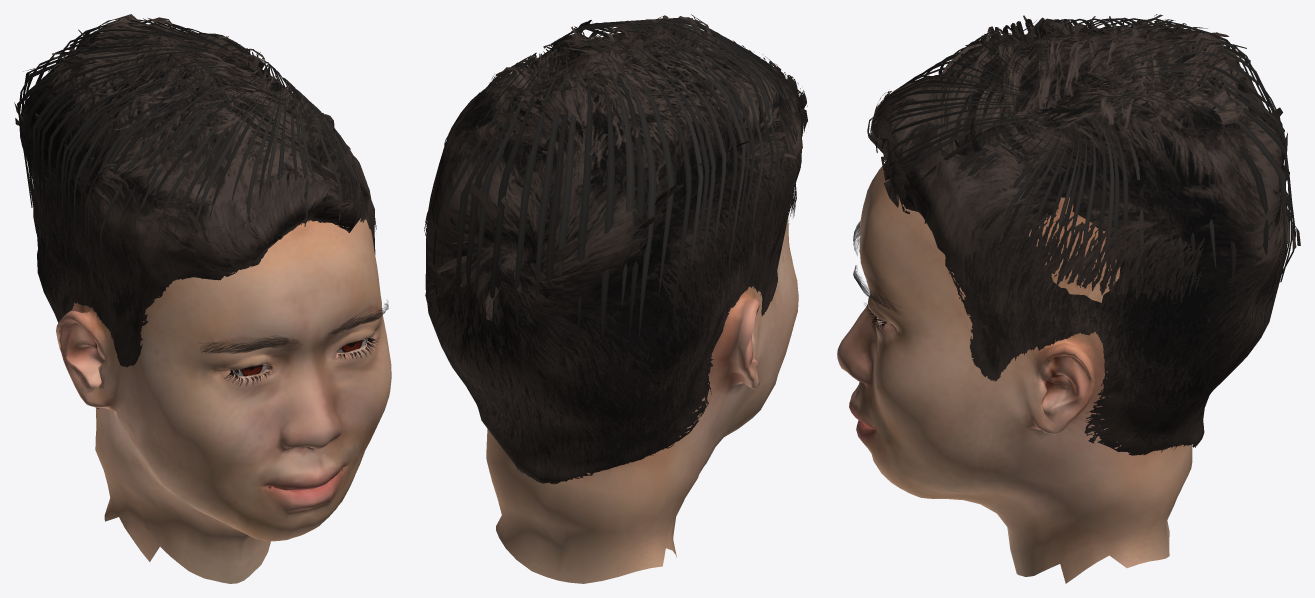
File: visitor-male.glb
The picture shows the model from 3 angles, left to right: view 1: azimuth 30°, elevation 25°; view 2: azimuth 150°, elevation 25°; view 3: azimuth 270°, elevation 25°; orthographic projection. The views are drawn at different scales.
Parts seen in each view (by area): view 1: skin, short01, eyebrow009, eyelashes01; view 2: short01, skin; view 3: short01, skin.
Boxes of the visible parts, x1,y1,x2,y2 form: skin: (56, 218, 391, 583); short01: (14, 14, 376, 408); eyebrow009: (200, 301, 388, 353); eyelashes01: (224, 337, 378, 386); short01: (424, 14, 807, 484); skin: (486, 217, 798, 583); short01: (867, 14, 1300, 455); skin: (837, 162, 1192, 583).
Size of the model in its own units: 0.1927 by 0.3218 by 0.2544.
6 materials, 5 textured.
